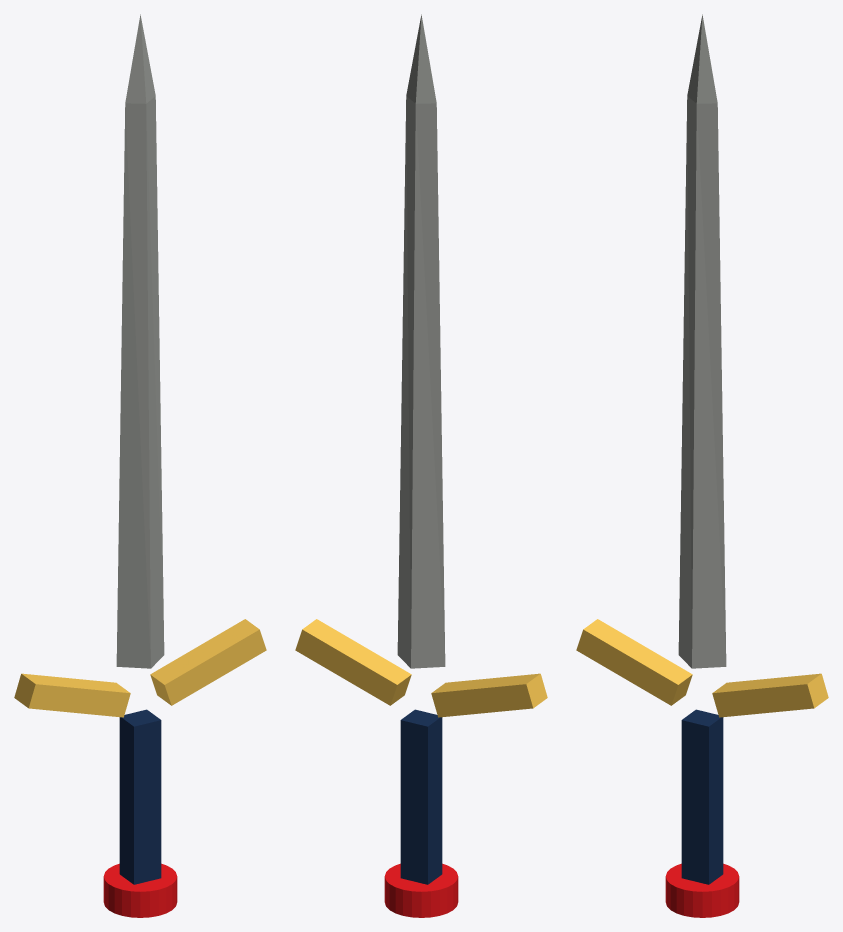
The model's file is sword_03_rune_blade.obj.
The picture shows the model from 3 angles, left to right: view 1: azimuth 30°, elevation 25°; view 2: azimuth 150°, elevation 25°; view 3: azimuth 330°, elevation 25°; orthographic projection.
Bounding box in the file's own units: 0.5238 × 1.87 × 0.14.
